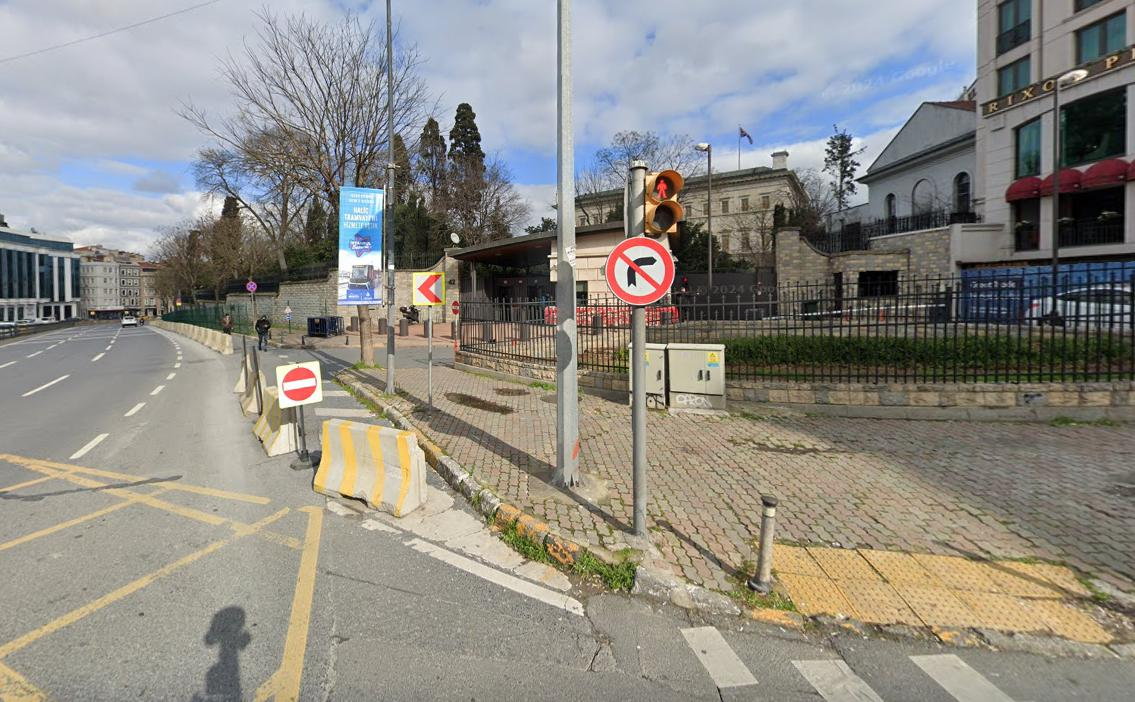rightturnsareforbidden: (607, 239, 675, 307)
